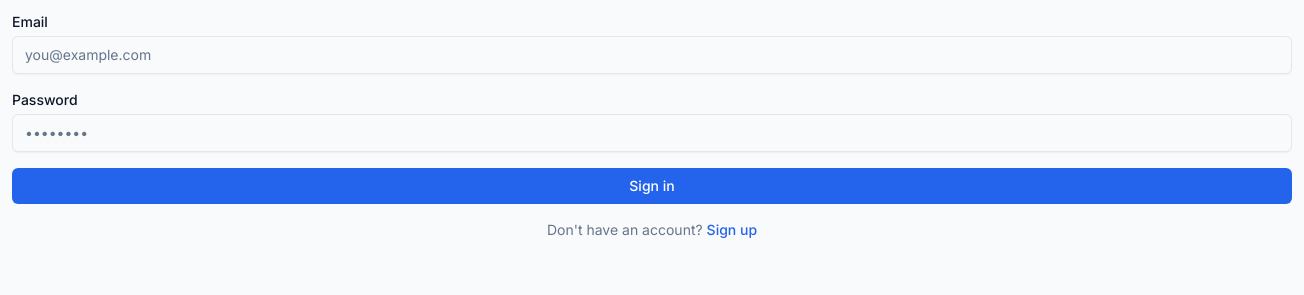
Test: LoginForm › shows a translated validation error when email is empty
What coordinates should you click on to do the following:
click the button "Sign in"
I would click on:
 (652, 186)
Its box is [12,168,1292,204].
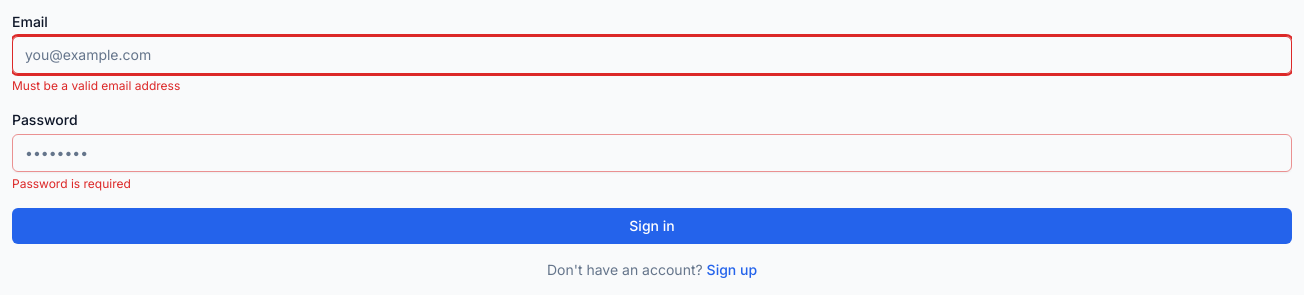
Expected: the text "Must be a valid email address" is shown, [12,78,180,93]
